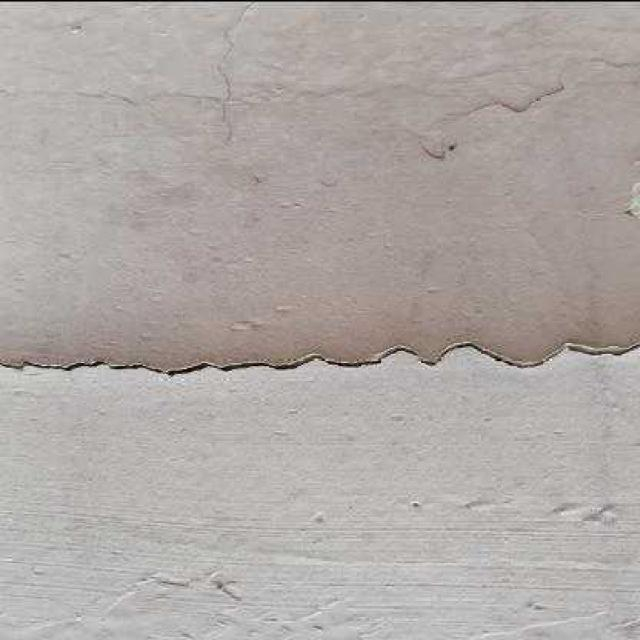D00: (0, 340, 640, 376)
